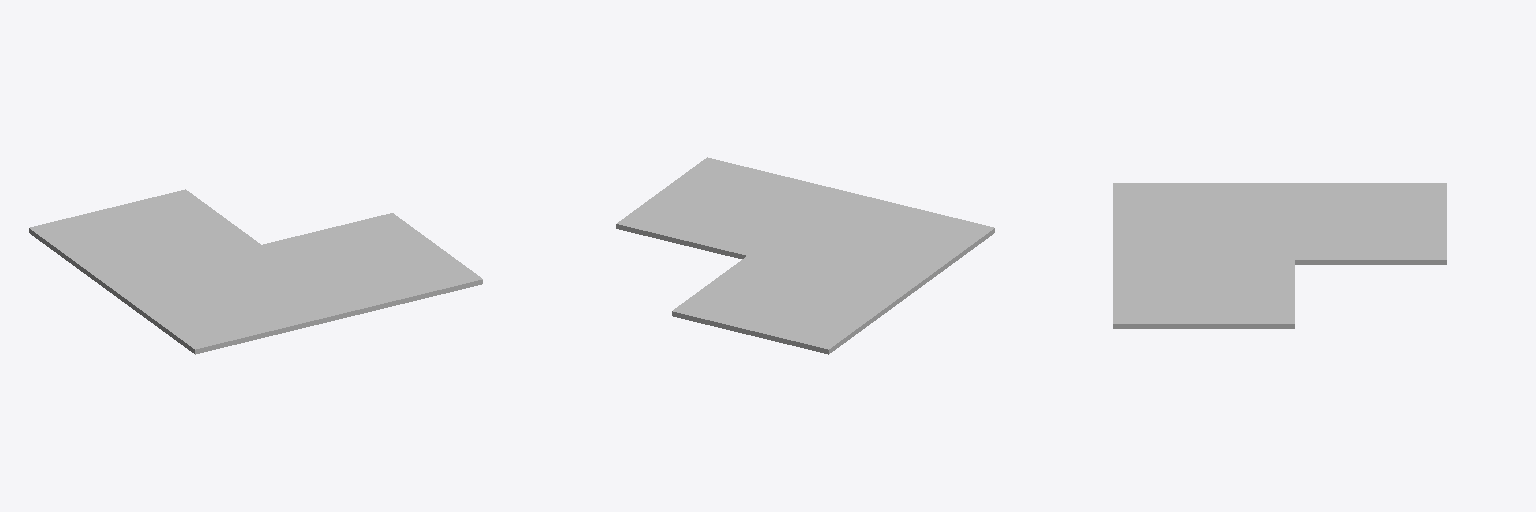
File: Tower_Block_Platform_6Corner.obj
3 views of the same model, side by side, from view 1: azimuth 30°, elevation 25°; view 2: azimuth 150°, elevation 25°; view 3: azimuth 270°, elevation 25° (orthographic).
Parts seen in each view (by area): view 1: Tower_Block_Platform_6Corner; view 2: Tower_Block_Platform_6Corner; view 3: Tower_Block_Platform_6Corner.
Part boxes in pixels (x1,y1,x2,y2): Tower_Block_Platform_6Corner: (29,189,482,354); Tower_Block_Platform_6Corner: (616,157,994,354); Tower_Block_Platform_6Corner: (1113,183,1446,328).
Bounding box in the file's own units: 18.17 × 0.3 × 18.17.